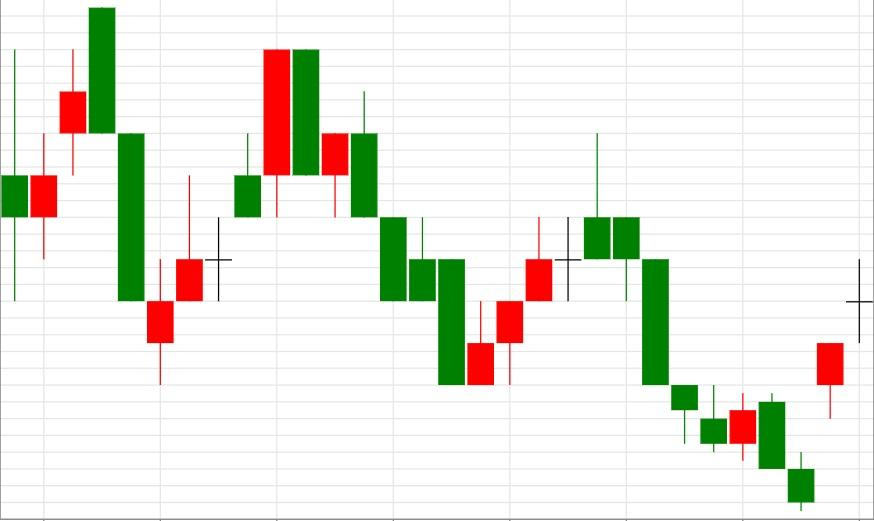shooting_star_fall: (437, 133, 611, 386)
three_black_crows_fall: (437, 133, 699, 444)
three_white_soldiers_rise: (263, 47, 553, 386)
